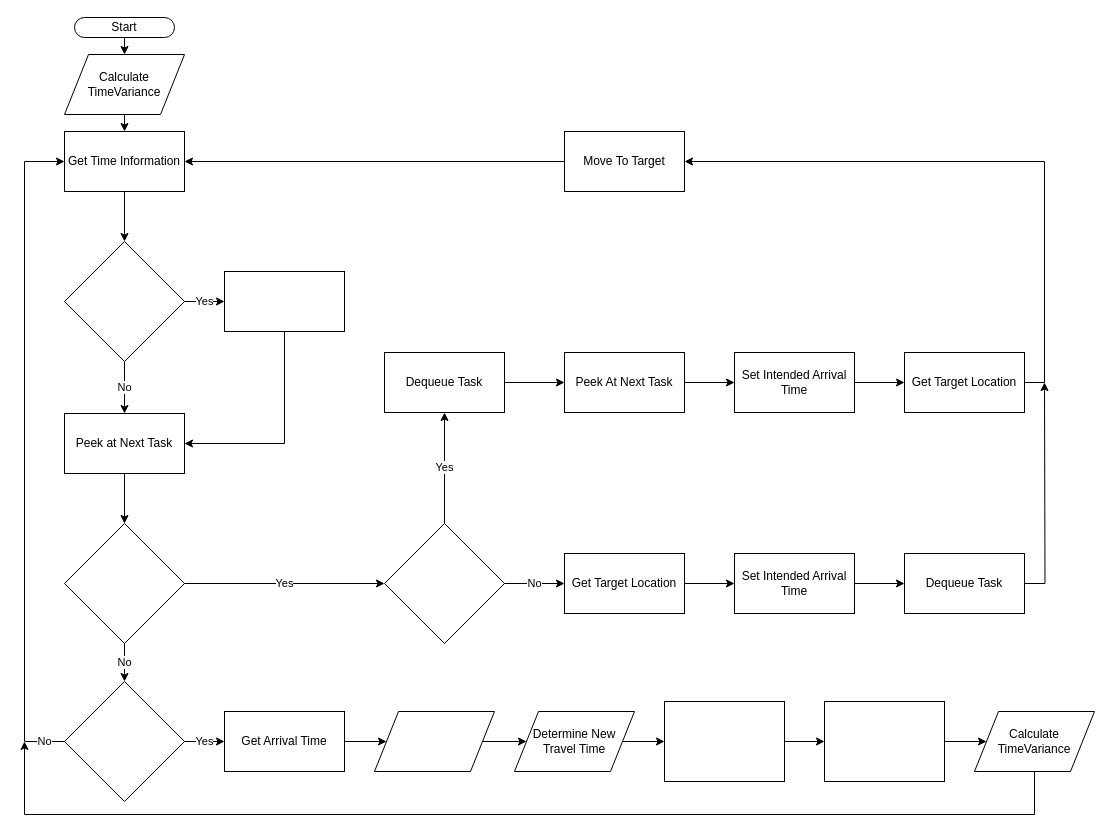
The diagram is 1112 pixels wide and 840 high, and some of its shapes have lost their labels. The centre of each missing label's shape, as x and y in pixels:
Calculate Early/Late Amount: the point at 434,741
Enqueue Current Task to TomorrowTaskQueue with Intended Arrival Times: the point at 884,741
Enqueue New Travel Task to TomorrowTaskQueue with Determined Travel Times: the point at 724,741
Has Day Changed?: the point at 124,301
Has Next Task Started Yet?: the point at 124,583
Has Target Position Been Reached?: the point at 124,741
Is Task Type Travel?: the point at 444,583
Reset Task Queue: the point at 284,301
